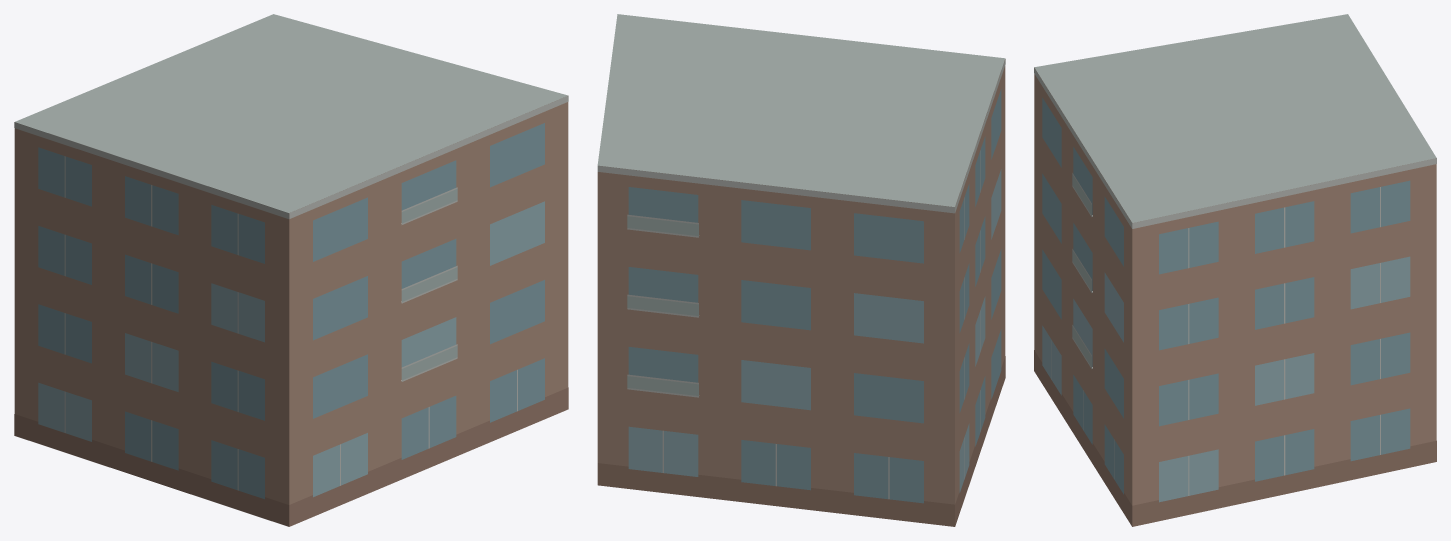
The model's file is survey-upis-32792431.glb.
3 renders of one model, left to right at view 1: azimuth 30°, elevation 25°; view 2: azimuth 150°, elevation 25°; view 3: azimuth 270°, elevation 25°, orthographic. The views are drawn at different scales.
Visible parts, largest first — view 1: survey-upis-32792431.tmp; view 2: survey-upis-32792431.tmp; view 3: survey-upis-32792431.tmp.
Part boxes in pixels (x1,y1,x2,y2): survey-upis-32792431.tmp: (14, 14, 568, 526); survey-upis-32792431.tmp: (597, 14, 1005, 526); survey-upis-32792431.tmp: (1034, 14, 1436, 526).
Bounding box in the file's own units: 18.34 × 12.42 × 14.93.
